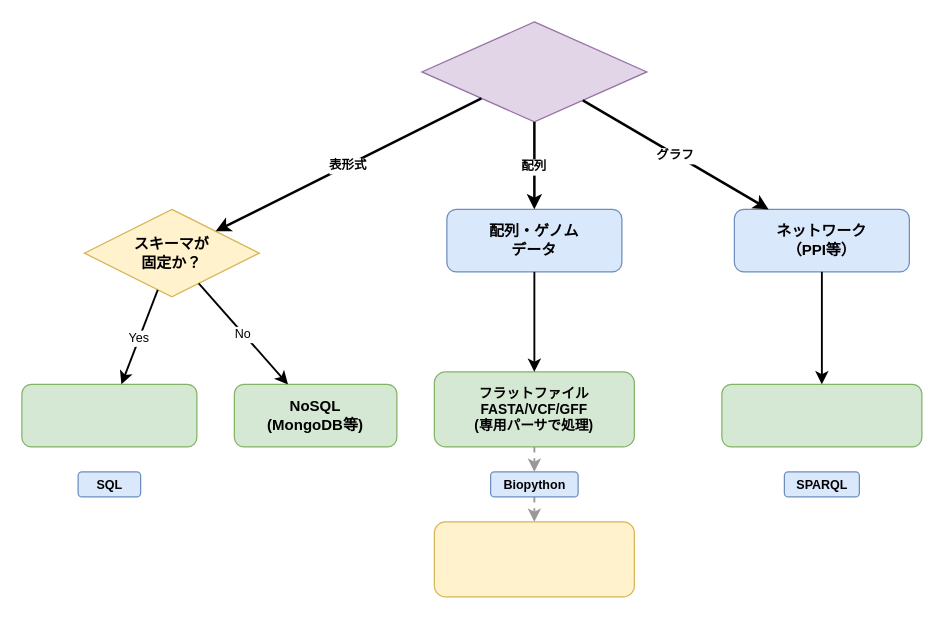
The diagram is 944 pixels wide and 619 high, and some of its shapes have lost their labels. Each missing label, with the centre of its shape:
RDB (SQLite) メタデータ管理: the point at 109,415
RDF + SPARQL (Linked Open Data): the point at 821,415
データの形式は？: the point at 534,71
公共DB + API GenBank / SRA UniProt / Ensembl: the point at 533,559
